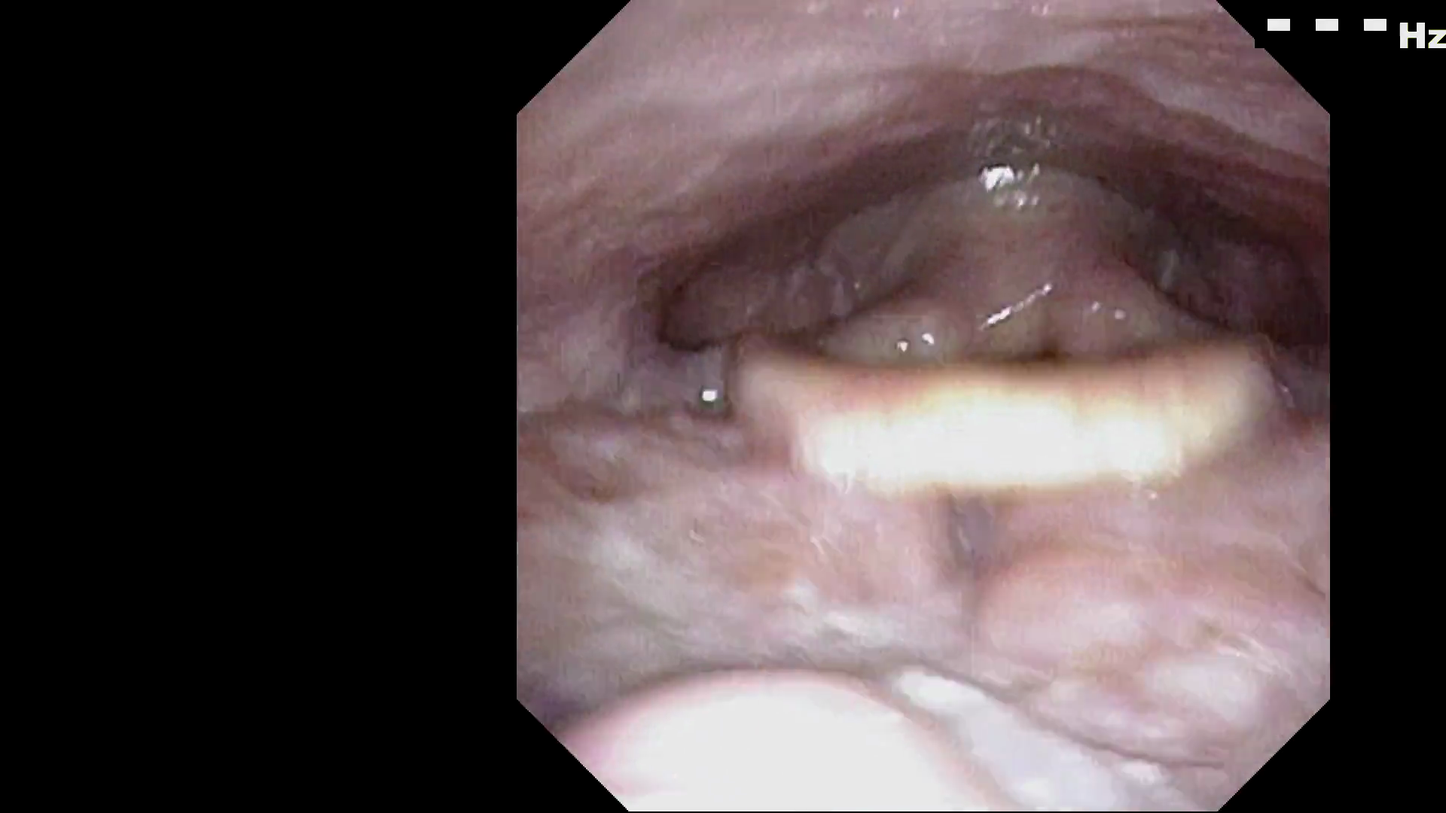epiglottis: (778, 262, 1194, 399)
